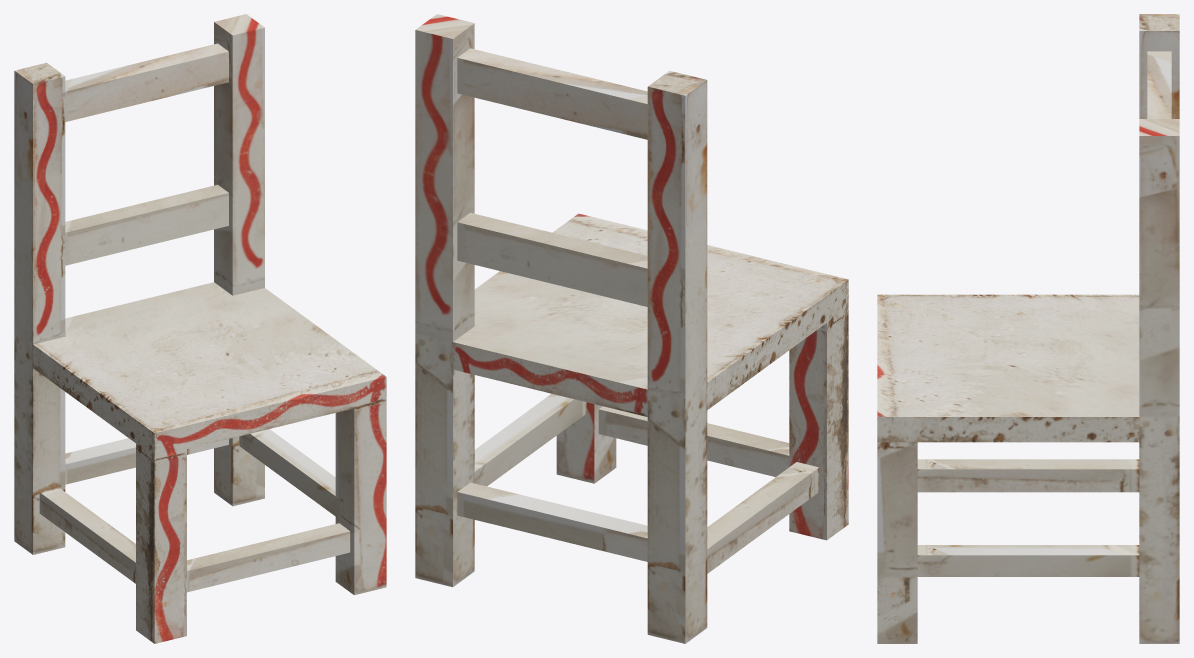
The model's file is Stuhl_25210.6.glb.
The picture shows the model from 3 angles, left to right: view 1: azimuth 30°, elevation 25°; view 2: azimuth 150°, elevation 25°; view 3: azimuth 270°, elevation 25°; orthographic projection. The views are drawn at different scales.
Parts seen in each view (by area): view 1: Sitz, Pfosten_hinten_links, Pfosten_hinten_rechts, Bein_vorne_links, Bein_vorne_rechts, Lehne_unten, Lehne_oben, Strebe_vorne, Strebe_links, Strebe_rechts, Sitz_hinten, Strebe_hinten; view 2: Pfosten_hinten_links, Pfosten_hinten_rechts, Sitz, Bein_vorne_links, Lehne_unten, Sitz_hinten, Lehne_oben, Strebe_hinten, Strebe_links, Strebe_rechts, Strebe_vorne, Bein_vorne_rechts; view 3: Sitz, Pfosten_hinten_rechts, Bein_vorne_rechts, Strebe_links, Strebe_rechts, Pfosten_hinten_links, Lehne_oben.
Boxes of the visible parts, x1=… form: Sitz: x1=33, y1=288, x2=386, y2=456; Pfosten_hinten_links: x1=14, y1=62, x2=65, y2=554; Pfosten_hinten_rechts: x1=214, y1=14, x2=264, y2=506; Bein_vorne_links: x1=136, y1=443, x2=186, y2=643; Bein_vorne_rechts: x1=335, y1=400, x2=386, y2=595; Lehne_unten: x1=65, y1=184, x2=228, y2=265; Lehne_oben: x1=65, y1=43, x2=228, y2=121; Strebe_vorne: x1=187, y1=523, x2=350, y2=592; Strebe_links: x1=39, y1=487, x2=135, y2=583; Strebe_rechts: x1=239, y1=429, x2=335, y2=516; Sitz_hinten: x1=65, y1=282, x2=232, y2=336; Strebe_hinten: x1=65, y1=438, x2=228, y2=484; Pfosten_hinten_links: x1=647, y1=70, x2=707, y2=643; Pfosten_hinten_rechts: x1=415, y1=14, x2=474, y2=586; Sitz: x1=474, y1=213, x2=848, y2=409; Bein_vorne_links: x1=789, y1=307, x2=848, y2=540; Lehne_unten: x1=457, y1=213, x2=647, y2=306; Sitz_hinten: x1=453, y1=326, x2=647, y2=416; Lehne_oben: x1=457, y1=48, x2=647, y2=139; Strebe_hinten: x1=457, y1=482, x2=647, y2=561; Strebe_links: x1=707, y1=462, x2=819, y2=573; Strebe_rechts: x1=474, y1=393, x2=586, y2=486; Strebe_vorne: x1=598, y1=406, x2=789, y2=476; Bein_vorne_rechts: x1=556, y1=402, x2=616, y2=483; Sitz: x1=877, y1=294, x2=1139, y2=442; Pfosten_hinten_rechts: x1=1139, y1=119, x2=1179, y2=643; Bein_vorne_rechts: x1=877, y1=442, x2=917, y2=643; Strebe_links: x1=917, y1=459, x2=1139, y2=492; Strebe_rechts: x1=917, y1=545, x2=1139, y2=576; Pfosten_hinten_links: x1=1139, y1=14, x2=1179, y2=118; Lehne_oben: x1=1147, y1=51, x2=1171, y2=118.
Size of the model in its own units: 0.1134 by 0.22 by 0.1187.
1 material, 1 textured.
